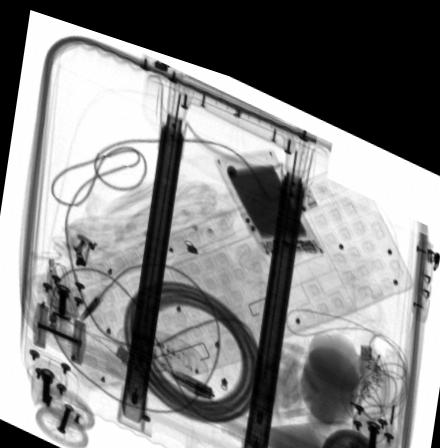Powerbank: (214, 131, 324, 238)
